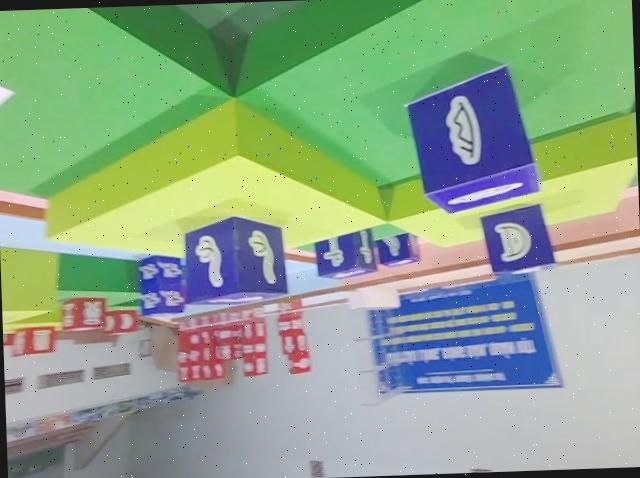R2 Real Blue: (410, 59, 544, 214), (180, 211, 289, 307), (481, 201, 556, 279), (316, 226, 381, 280)
